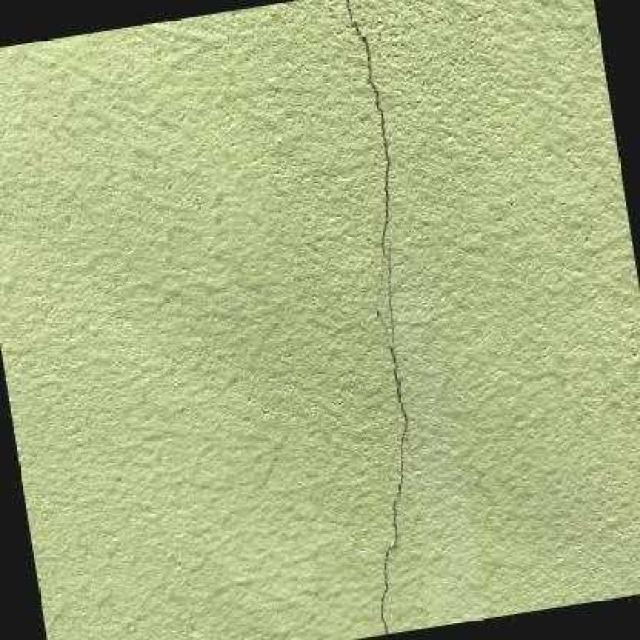D00: (344, 0, 391, 296), (373, 237, 408, 634)
